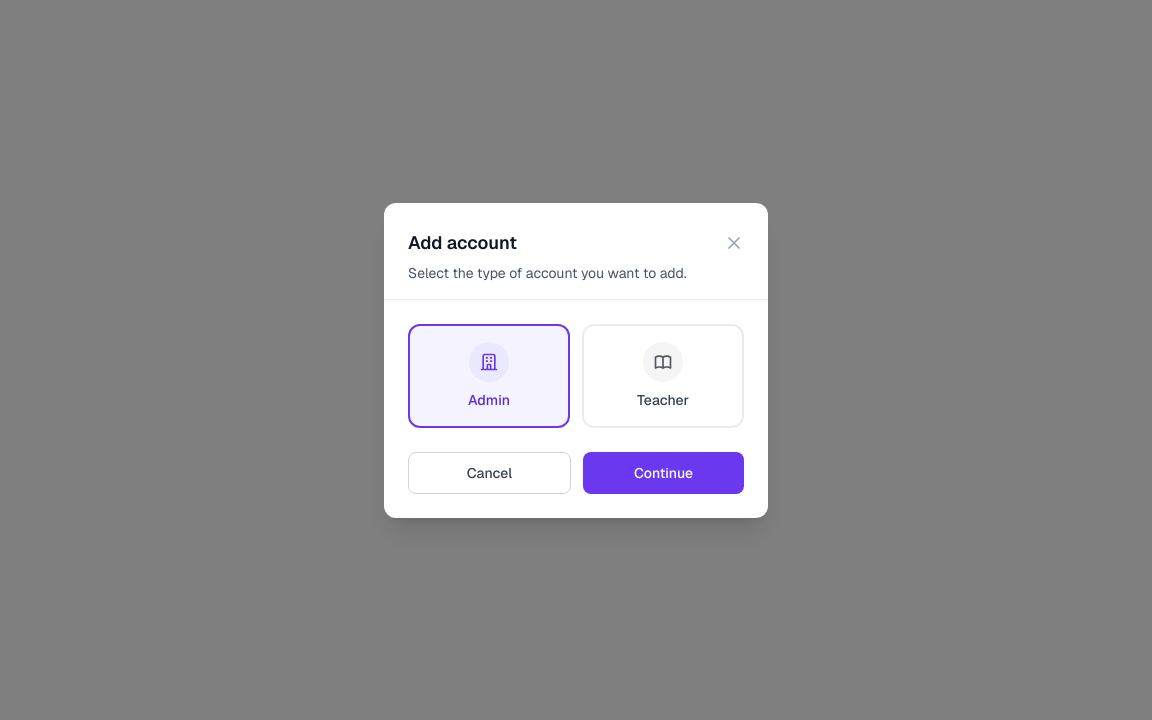
AddAccountModal › should go back to role step when Back is clicked
# Go to credentials step
Click the button "Continue": (664, 472) top-left (583, 452), bottom-right (744, 494)
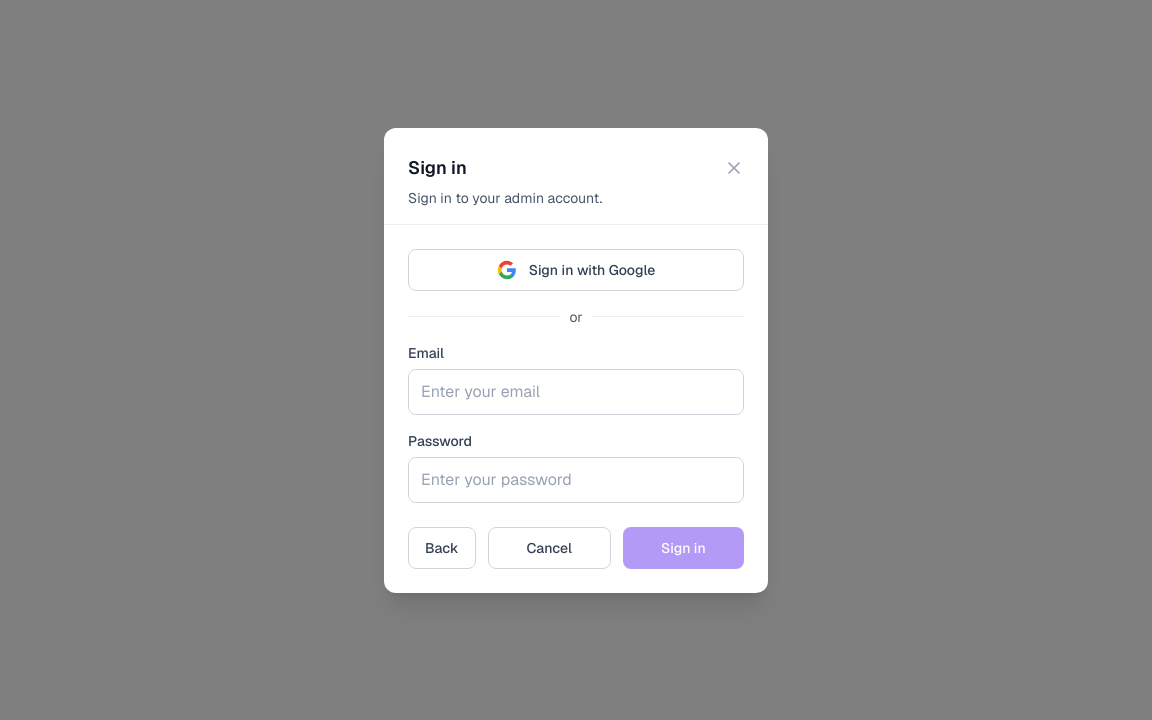
Now the heading "Sign in" is shown, box top-left (408, 154), bottom-right (467, 182)
#  Go back
Click the button "Back": (442, 548) top-left (408, 526), bottom-right (476, 568)
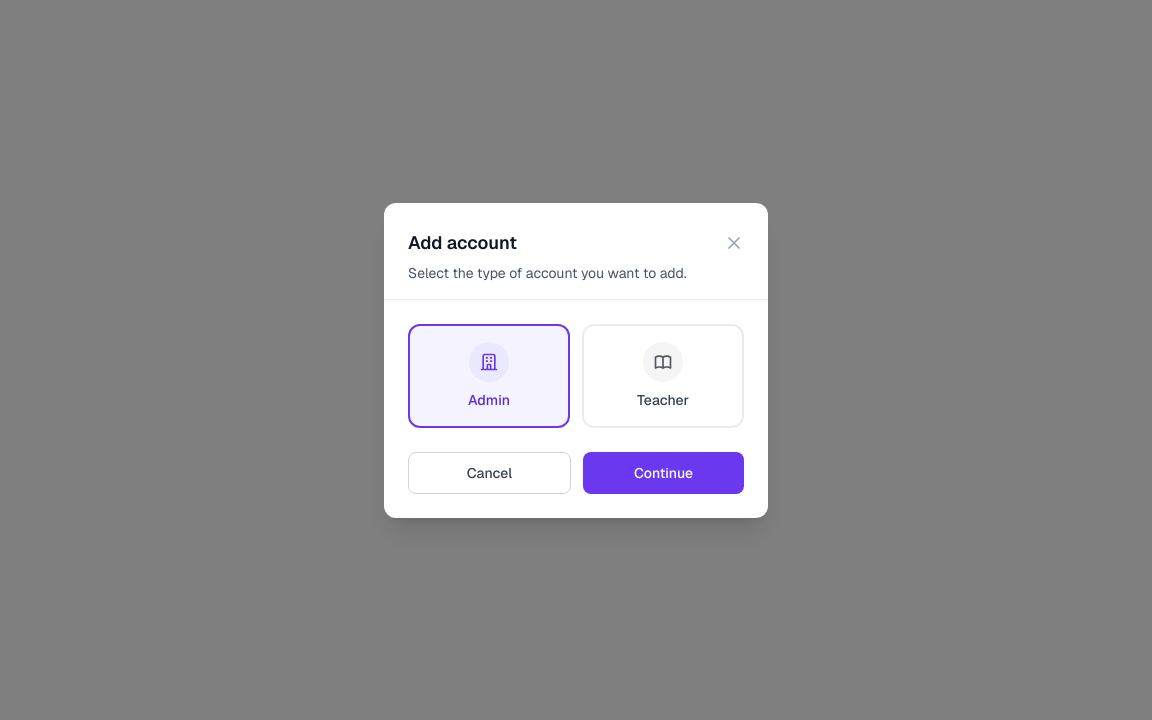
Now the heading "Add account" is shown, box top-left (408, 228), bottom-right (517, 256)
